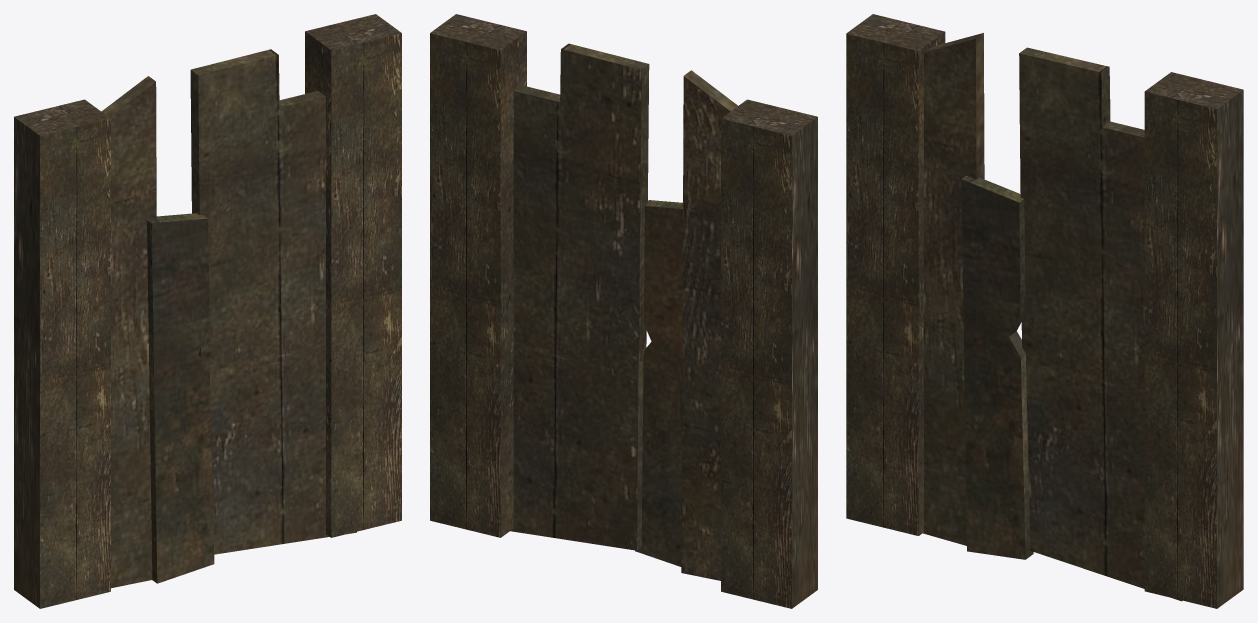
3 renders of one model, left to right at view 1: azimuth 30°, elevation 25°; view 2: azimuth 150°, elevation 25°; view 3: azimuth 330°, elevation 25°, orthographic. The views are drawn at different scales.
Parts seen in each view (by area): view 1: woodwall1; view 2: woodwall1; view 3: woodwall1.
Part boxes in pixels (x1,y1,x2,y2): woodwall1: (14,14,401,608); woodwall1: (430,14,817,608); woodwall1: (846,14,1243,608).
Bounding box in the file's own units: 2.27 × 3 × 0.2838.
Materials: 1 (1 with a texture image).
